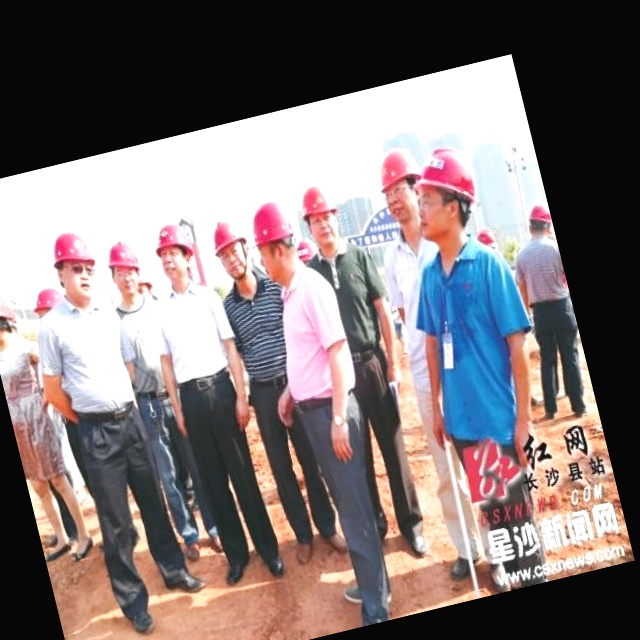Con_Casco: (244, 196, 306, 286), (47, 226, 102, 303)
Sin_Chaleco: (31, 290, 145, 422), (143, 274, 241, 392)
